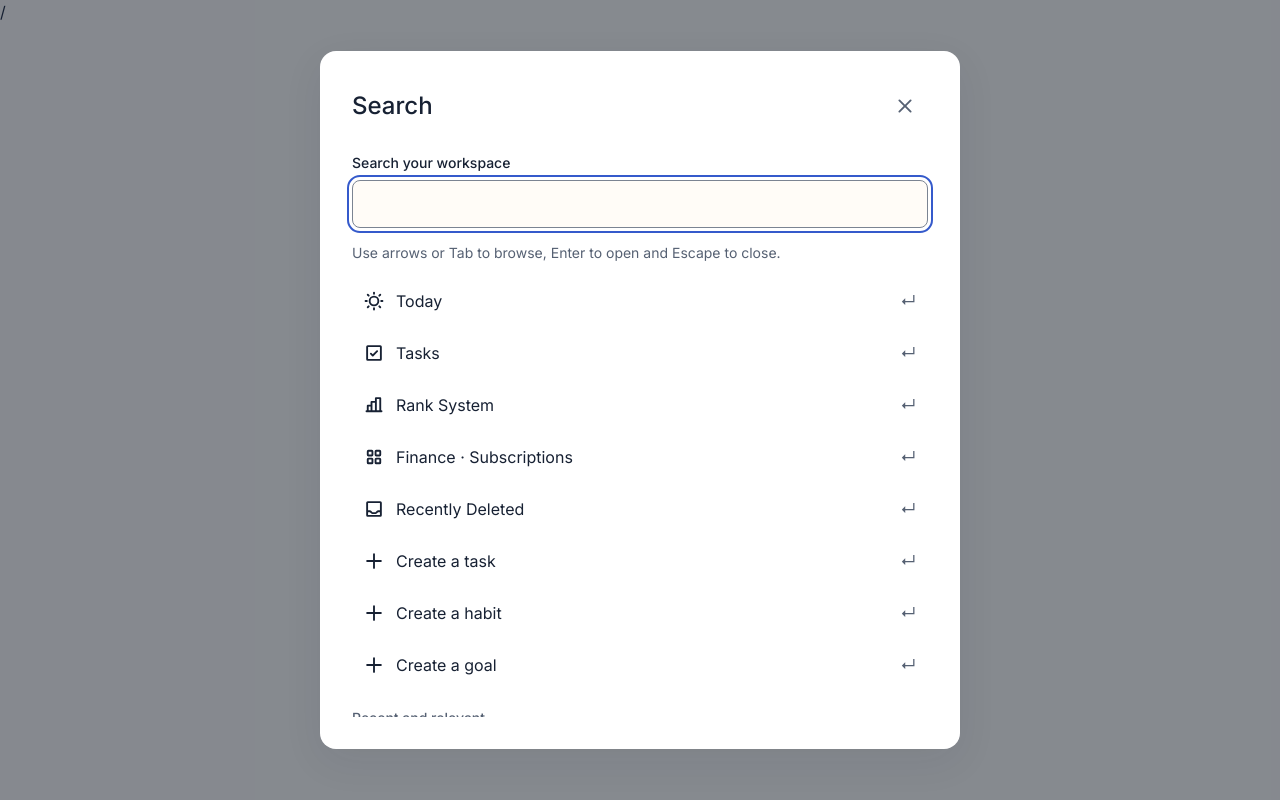
Scenario: opens the localized Finance subscriptions destination in en
Type "Subscriptions" into the field. click: coordinates (640, 204)
box: [352,180,928,228]
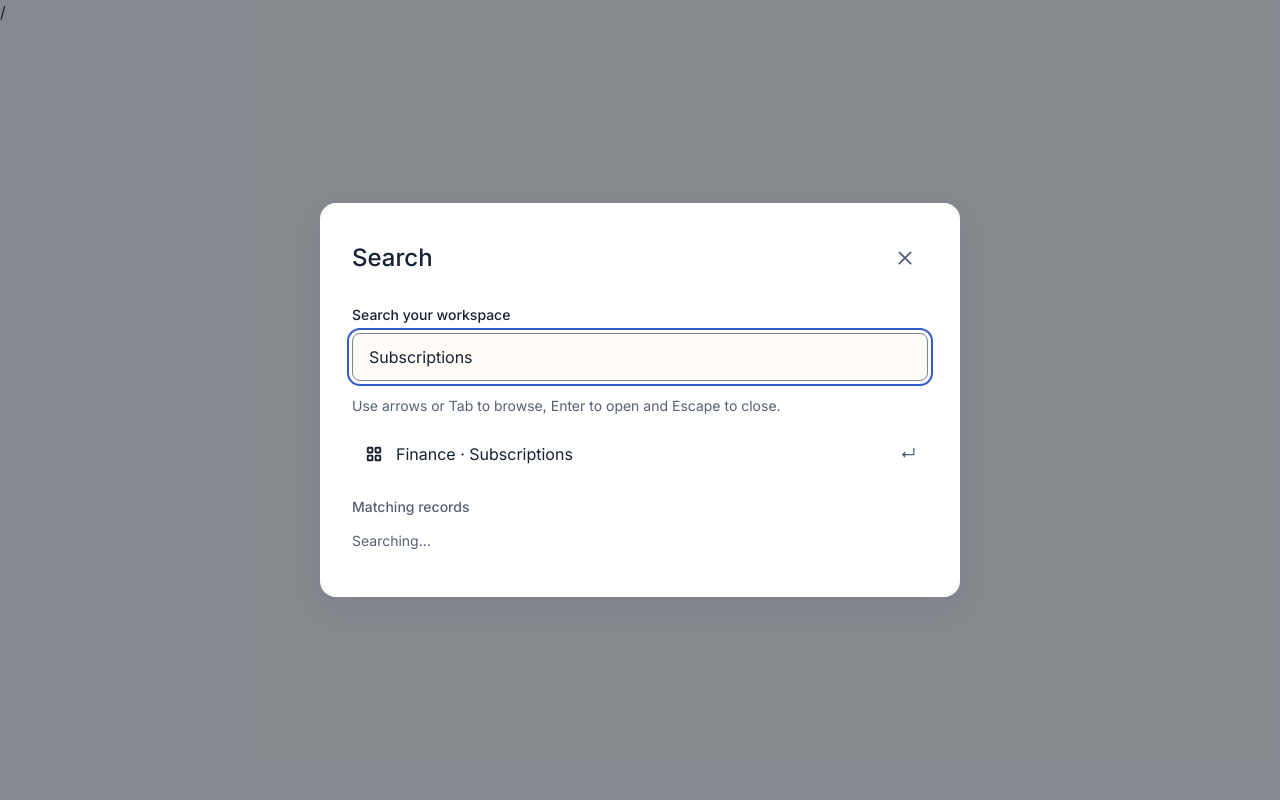
Press Enter
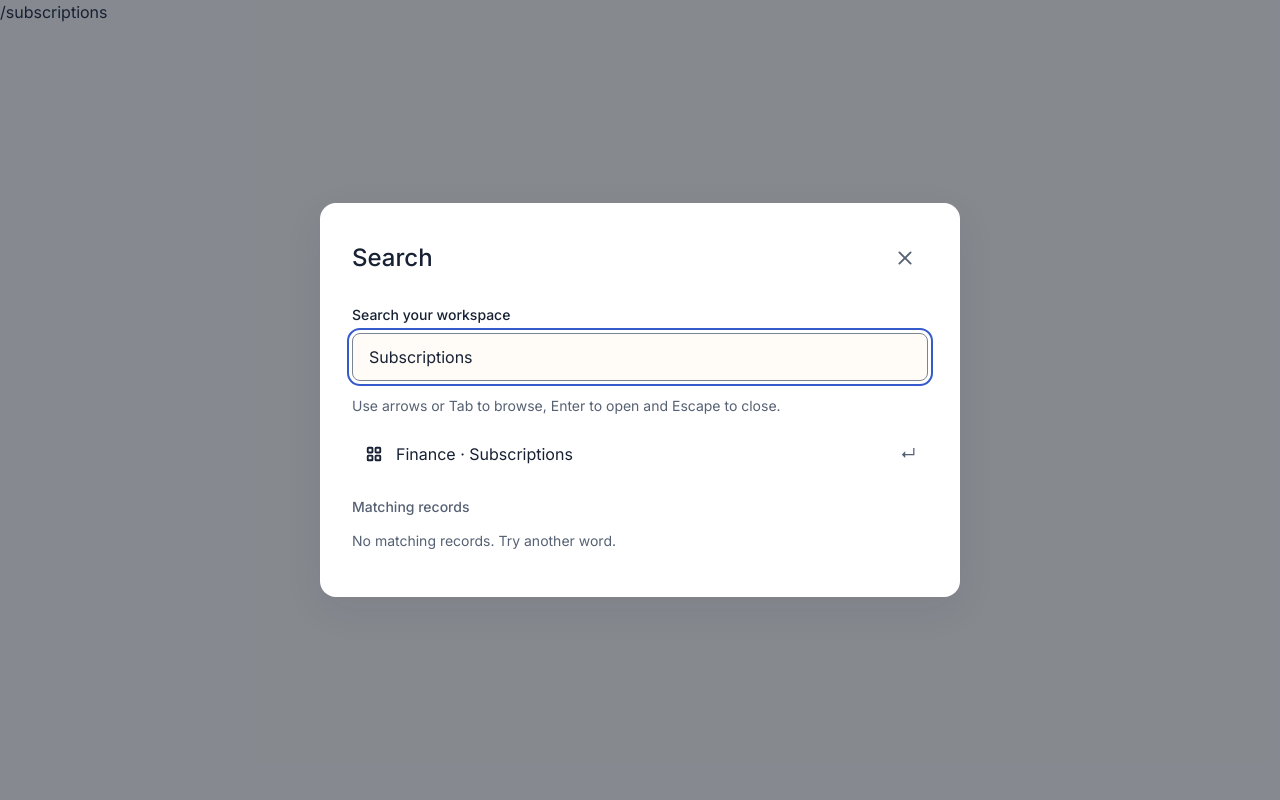
Expected: the text with test id "location" reads "/subscriptions", [0,2,108,22]
